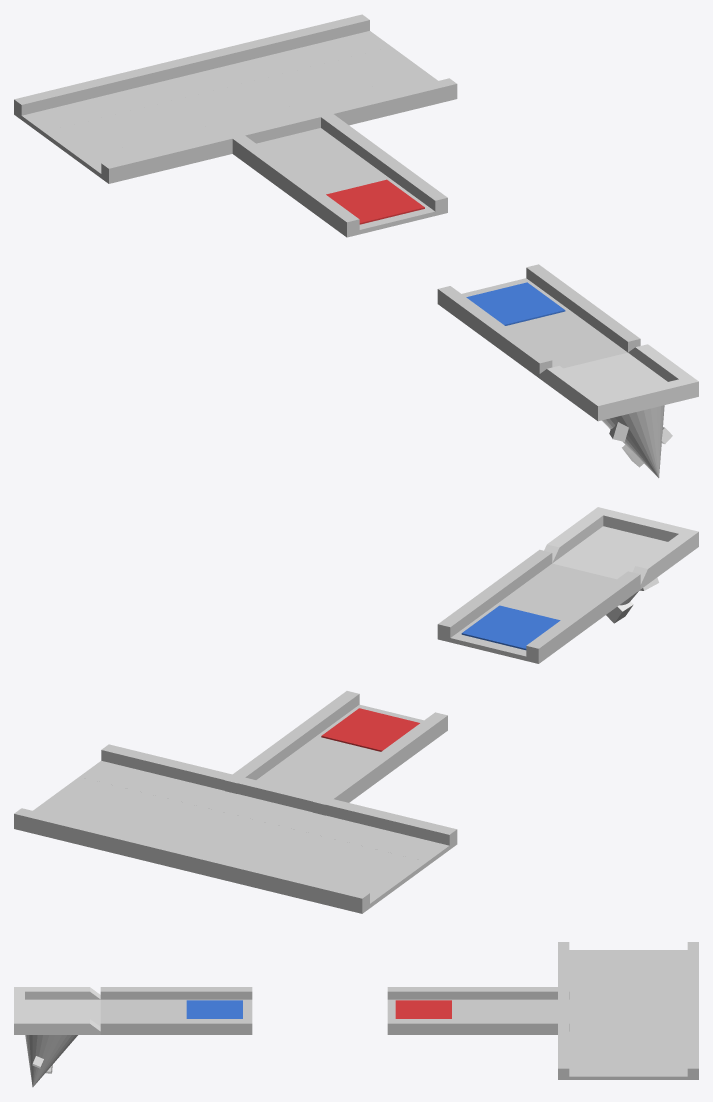
3 renders of one model, top to bottom at view 1: azimuth 30°, elevation 25°; view 2: azimuth 150°, elevation 25°; view 3: azimuth 270°, elevation 25°, orthographic. The views are drawn at different scales.
Parts seen in each view (by area): view 1: Cube.005, Cube.006, Cube.001, Cube.007, Cube, Cube.003, Cube.004, Cube.002; view 2: Cube.007, Cube.006, Cube.005, Cube.001, Cube.003, Cube, Cube.002, Cube.004; view 3: Cube.001, Cube.006, Cube.003, Cube.005, Cube.007, Cube, Cube.002, Cube.004.
Boxes of the visible parts, x1=… form: Cube.005: x1=14, y1=14, x2=391, y2=135; Cube.006: x1=43, y1=47, x2=426, y2=161; Cube.001: x1=225, y1=108, x2=447, y2=237; Cube.007: x1=79, y1=73, x2=457, y2=183; Cube: x1=539, y1=344, x2=698, y2=477; Cube.003: x1=437, y1=264, x2=640, y2=378; Cube.004: x1=326, y1=179, x2=424, y2=224; Cube.002: x1=466, y1=282, x2=565, y2=325; Cube.007: x1=79, y1=744, x2=457, y2=865; Cube.006: x1=44, y1=777, x2=427, y2=891; Cube.005: x1=14, y1=803, x2=391, y2=913; Cube.001: x1=224, y1=691, x2=447, y2=815; Cube.003: x1=437, y1=549, x2=640, y2=663; Cube: x1=544, y1=507, x2=698, y2=623; Cube.002: x1=461, y1=605, x2=560, y2=650; Cube.004: x1=321, y1=708, x2=419, y2=751; Cube.001: x1=387, y1=987, x2=569, y2=1034; Cube.006: x1=602, y1=950, x2=654, y2=1079; Cube.003: x1=100, y1=987, x2=252, y2=1034; Cube.005: x1=654, y1=942, x2=698, y2=1079; Cube.007: x1=558, y1=942, x2=602, y2=1079; Cube: x1=14, y1=987, x2=100, y2=1087; Cube.002: x1=186, y1=1000, x2=242, y2=1018; Cube.004: x1=395, y1=1000, x2=451, y2=1018.
Bounding box in the file's own units: 16310 × 4455 × 37328.
